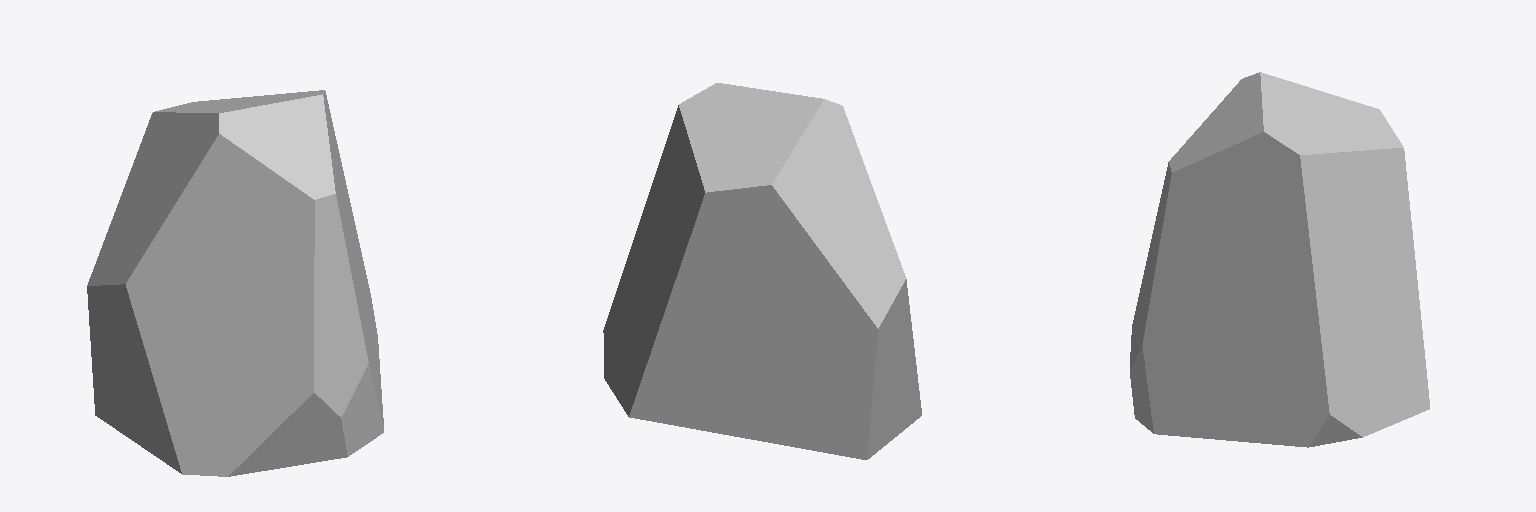
The model's file is rock03.obj.
3 renders of one model, left to right at view 1: azimuth 30°, elevation 25°; view 2: azimuth 150°, elevation 25°; view 3: azimuth 270°, elevation 25°, orthographic.
Visible parts, largest first — view 1: Cube.001_Cube.003; view 2: Cube.001_Cube.003; view 3: Cube.001_Cube.003.
Boxes of the visible parts, <box> form: Cube.001_Cube.003: <box>87,90,383,476</box>; Cube.001_Cube.003: <box>603,83,921,459</box>; Cube.001_Cube.003: <box>1130,72,1429,447</box>.
Bounding box in the file's own units: 7.29 × 8.04 × 6.8.